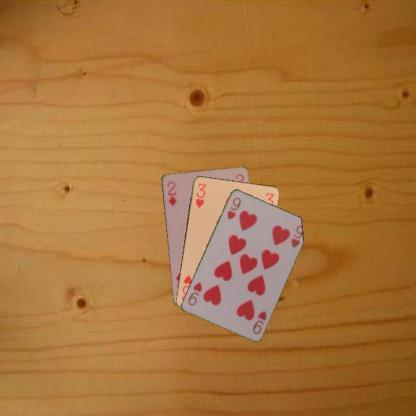2d: (164, 178, 178, 207)
3h: (192, 180, 208, 209)
9h: (249, 307, 268, 335), (224, 194, 242, 221)
